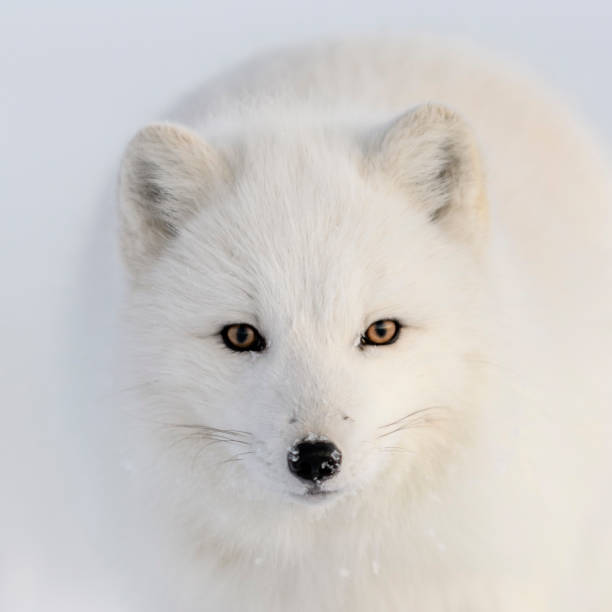arcticfox: (179, 203, 430, 511)
